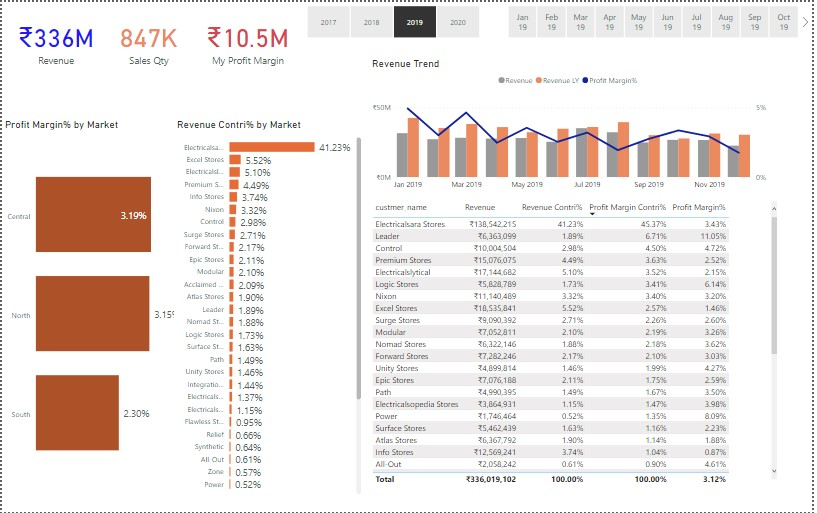

The page's visual inventory and layout, read from the dashboard file:
{"tool":"powerbi","page":{"name":"Perfor Insights","canvas":[1350,850],"ordinal":4},"visuals":[{"type":"card","fields":{"Values":["BaseMeasures (2).Revenue"]},"box":[0,0,180,132],"z":0},{"type":"card","fields":{"Values":["BaseMeasures (2).Sales Qty"]},"box":[164.3,0,158.6,131.4],"z":1000},{"type":"slicer","fields":{"Values":["sales date.year"]},"box":[483.2,0,335.5,66.5],"z":2000},{"type":"slicer","fields":{"Values":["sales date.cy_date"]},"box":[818.6,0,531.7,66.5],"z":3000},{"type":"lineClusteredColumnComboChart","title":"Revenue Trend","fields":{"Category":["sales date.cy_date"],"Y":["BaseMeasures (2).Revenue","BaseMeasures (2).Revenue LY"],"Y2":["BaseMeasures (2).Profit Margin%"]},"box":[611.7,91.7,666.7,230],"z":4000},{"type":"card","fields":{"Values":["BaseMeasures (2).My Profit Margin"]},"box":[325.7,0,168.6,131.4],"z":5000},{"type":"barChart","title":"Profit Margin% by Market","fields":{"Y":["BaseMeasures (2).Profit Margin%"],"Category":["sales markets.zone"]},"box":[0,193.3,301.7,631.7],"z":6000},{"type":"tableEx","fields":{"Values":["sales customers.custmer_name","BaseMeasures (2).Revenue","BaseMeasures (2).Revenue Contri%","BaseMeasures (2).Profit Margin Contri%","BaseMeasures (2).Profit Margin%"]},"box":[611.7,326.7,685,481.7],"z":7000},{"type":"barChart","title":"Revenue Contri% by Market","fields":{"Y":["BaseMeasures (2).Revenue Contri%"],"Category":["sales customers.custmer_name"]},"box":[286.7,193.3,316.7,631.7],"z":9000}]}

Visuals, with their boxes in screenshot pixels (x1, y1, x2, y2), scaled from the page's 1350x850 canvas onto the 817x513 screenshot:
card - BaseMeasures (2).Revenue: locate(0, 0, 109, 80)
card - BaseMeasures (2).Sales Qty: locate(99, 0, 195, 79)
slicer - sales date.year: locate(292, 0, 495, 40)
slicer - sales date.cy_date: locate(495, 0, 816, 40)
"Revenue Trend" lineClusteredColumnComboChart: locate(370, 55, 774, 194)
card - BaseMeasures (2).My Profit Margin: locate(197, 0, 299, 79)
"Profit Margin% by Market" barChart: locate(0, 117, 183, 498)
tableEx - sales customers.custmer_name x BaseMeasures (2).Revenue: locate(370, 197, 785, 488)
"Revenue Contri% by Market" barChart: locate(174, 117, 365, 498)
